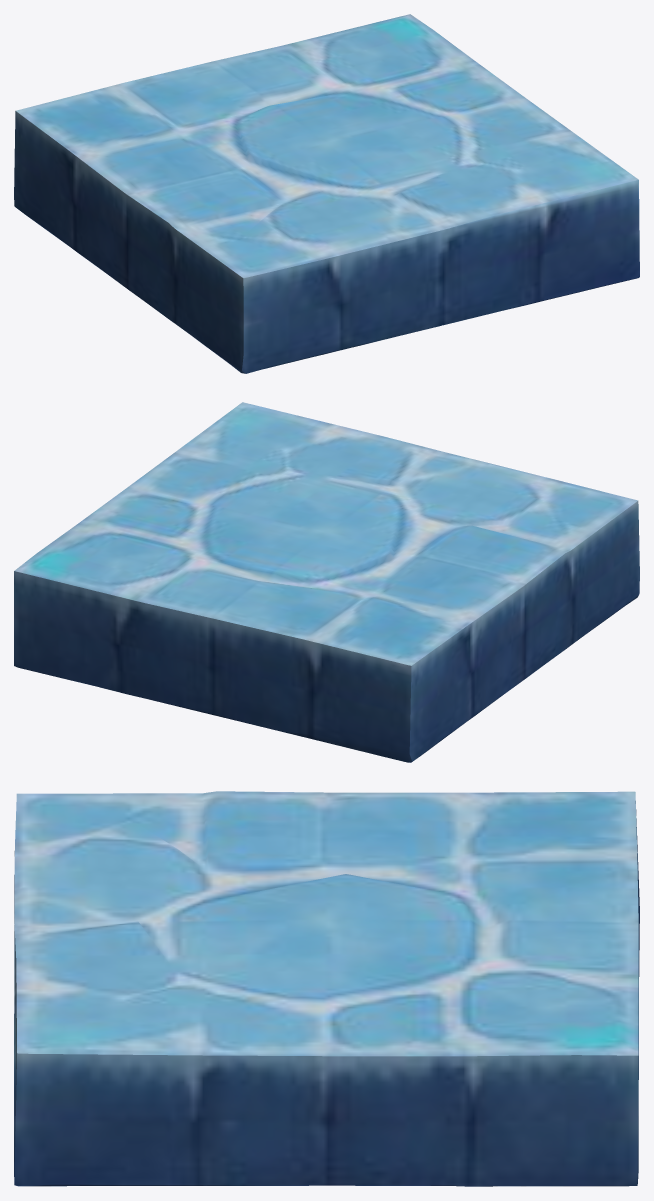
Rendered from b_givre_sol_2.glb.
3 views of the same model, one above another, from view 1: azimuth 30°, elevation 25°; view 2: azimuth 150°, elevation 25°; view 3: azimuth 270°, elevation 25° (orthographic). The views are drawn at different scales.
Parts seen in each view (by area): view 1: geometry_0; view 2: geometry_0; view 3: geometry_0.
Part boxes in pixels (bbox=[...]): geometry_0: bbox=[14, 14, 639, 373]; geometry_0: bbox=[14, 402, 639, 762]; geometry_0: bbox=[14, 791, 639, 1186].
Size of the model in its own units: 1 by 0.2418 by 1.
1 material, 1 textured.
